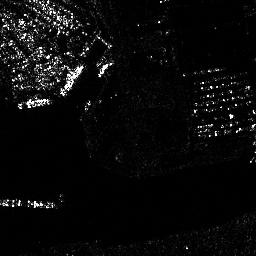ship: (1, 196, 56, 211), (59, 62, 83, 96), (17, 96, 51, 110)
